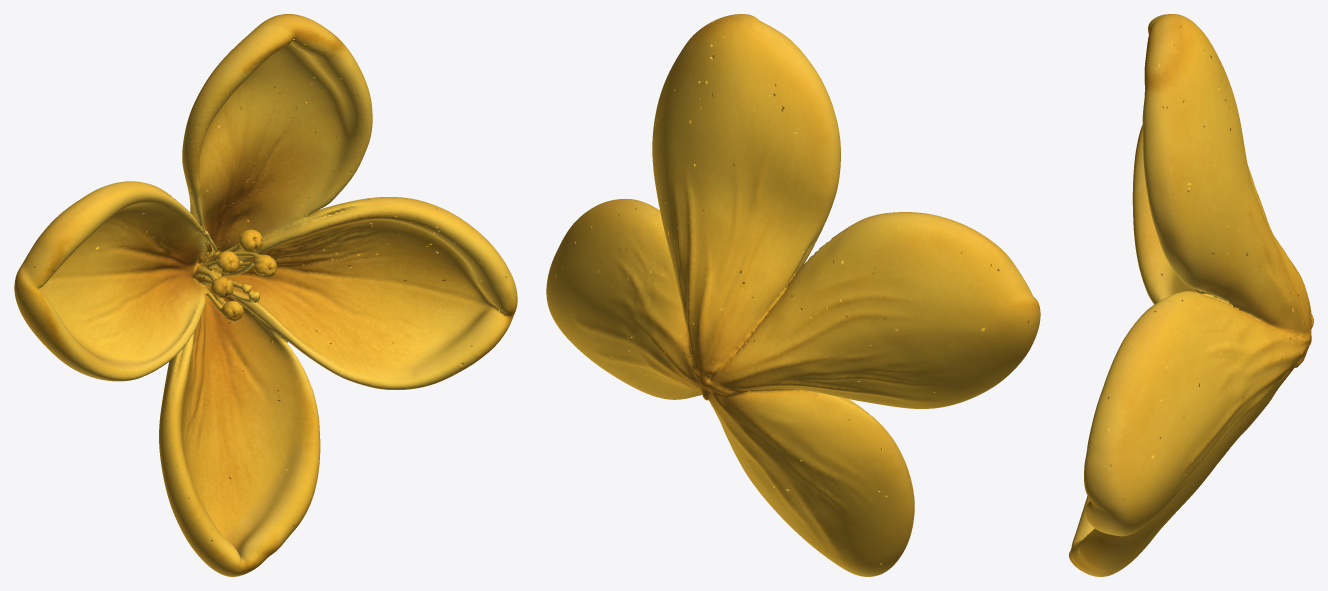
Rendered from Osmanthus_Golden.fbx.
The picture shows the model from 3 angles, left to right: view 1: azimuth 30°, elevation 25°; view 2: azimuth 150°, elevation 25°; view 3: azimuth 270°, elevation 25°; orthographic projection. The views are drawn at different scales.
Visible parts, largest first — view 1: Mesh_0; view 2: Mesh_0; view 3: Mesh_0.
Boxes of the visible parts, x1,y1,x2,y2 form: Mesh_0: [14, 14, 517, 576]; Mesh_0: [546, 14, 1040, 576]; Mesh_0: [1069, 14, 1313, 576].
Bounding box in the file's own units: 2.88 × 3 × 1.11.
Materials: 1 (1 with a texture image).
